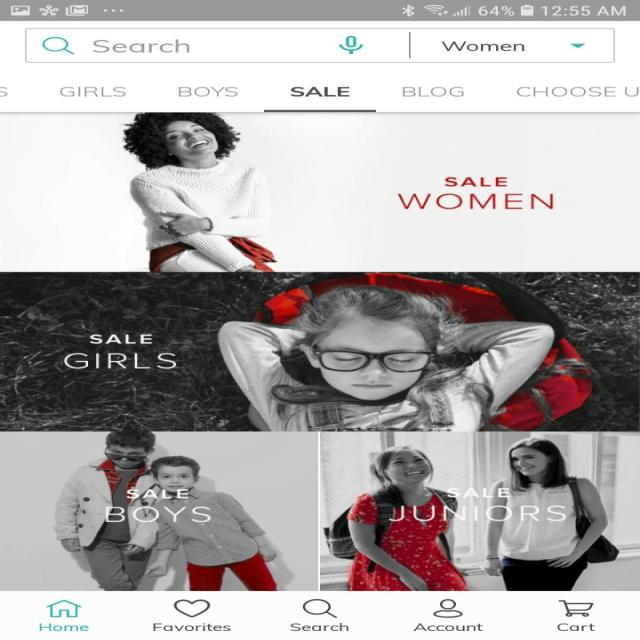EditText: (24, 28, 614, 63)
Icon: (173, 598, 210, 617), (301, 598, 338, 617), (46, 599, 82, 617), (432, 598, 463, 618), (557, 599, 593, 616), (42, 37, 74, 55), (338, 36, 362, 54), (569, 43, 585, 48)
Image: (0, 112, 639, 272), (0, 272, 639, 431), (319, 431, 639, 590), (0, 431, 318, 590)
Text: (388, 504, 566, 522), (395, 193, 553, 210), (63, 352, 177, 369), (105, 506, 211, 522), (516, 86, 640, 96), (92, 40, 190, 52), (441, 41, 524, 51), (60, 86, 126, 97), (443, 176, 508, 187), (402, 86, 464, 97), (290, 86, 350, 97), (178, 86, 238, 97), (152, 623, 231, 631), (89, 334, 152, 344), (125, 488, 188, 498), (446, 488, 509, 497), (412, 623, 482, 631), (288, 623, 348, 631), (39, 623, 89, 631), (556, 623, 594, 631)
